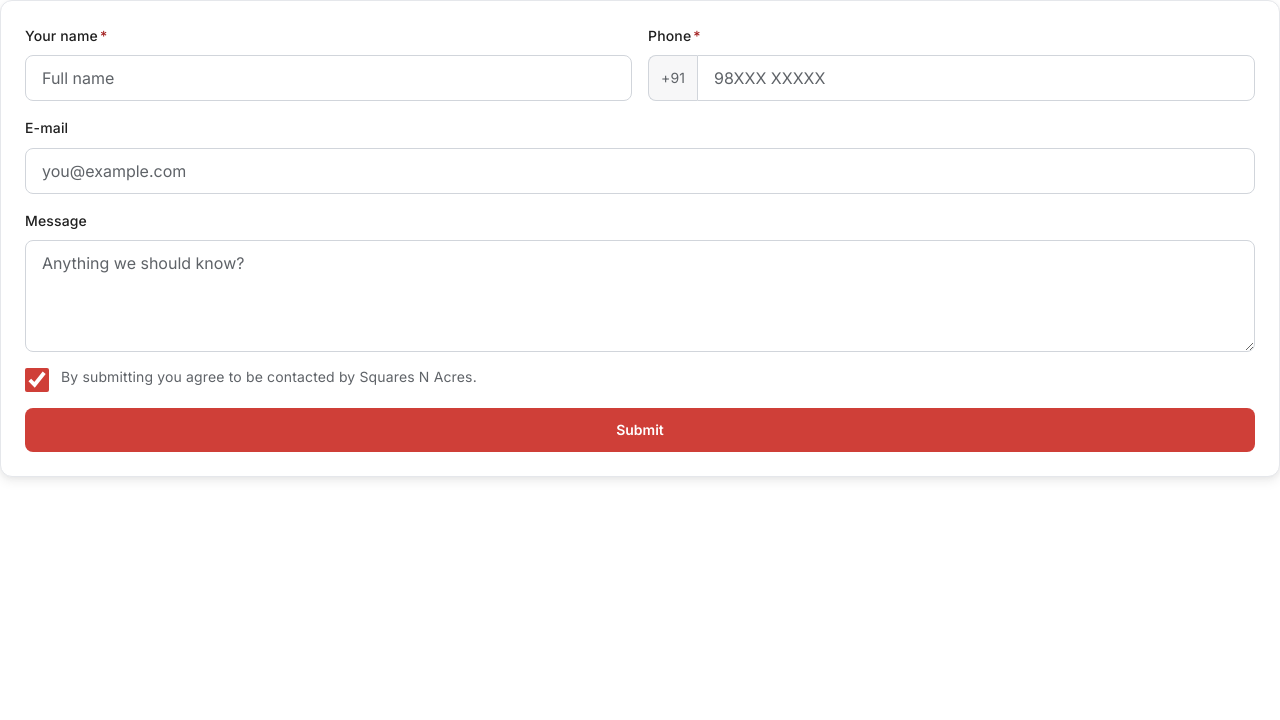
it: the boxes › refuses an e-mail address it would send, and accepts a valid one
Type "Asha Rao" into the field labelled "Your name*" at (328, 78), box [25,55,632,101]
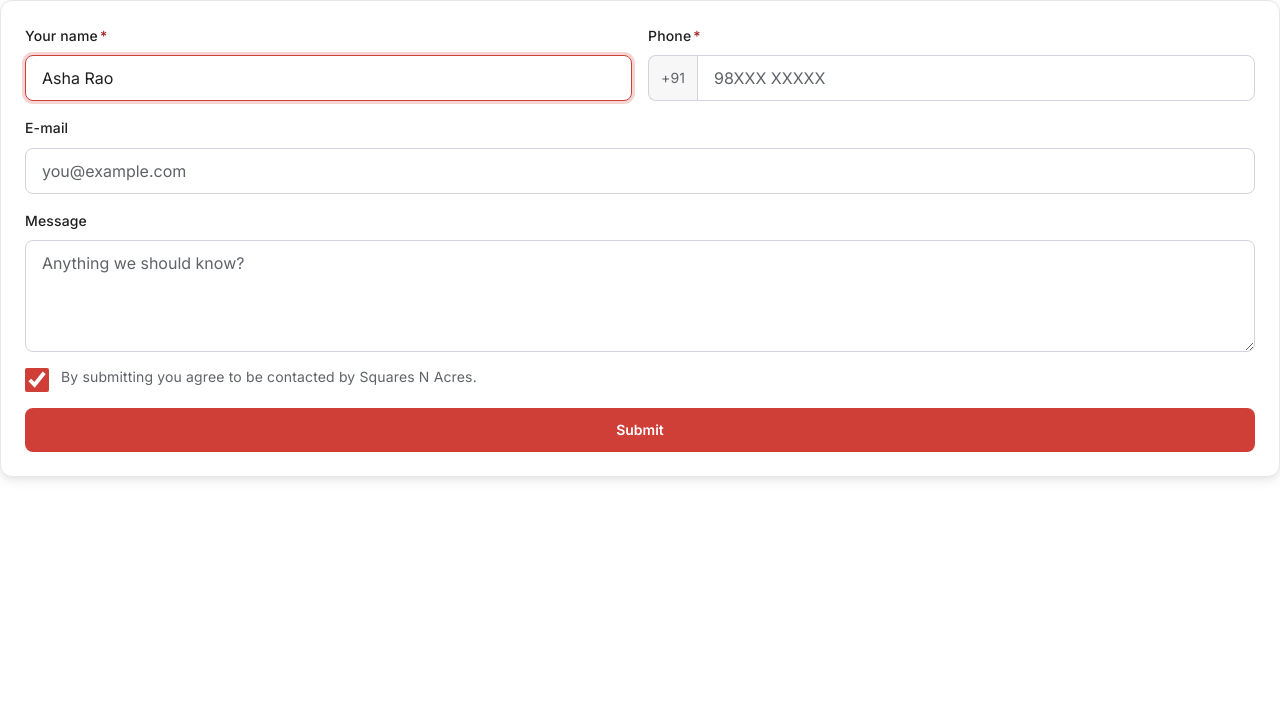
Type "9876543210" into the field labelled "Phone*" at (976, 78), box [697,55,1255,101]
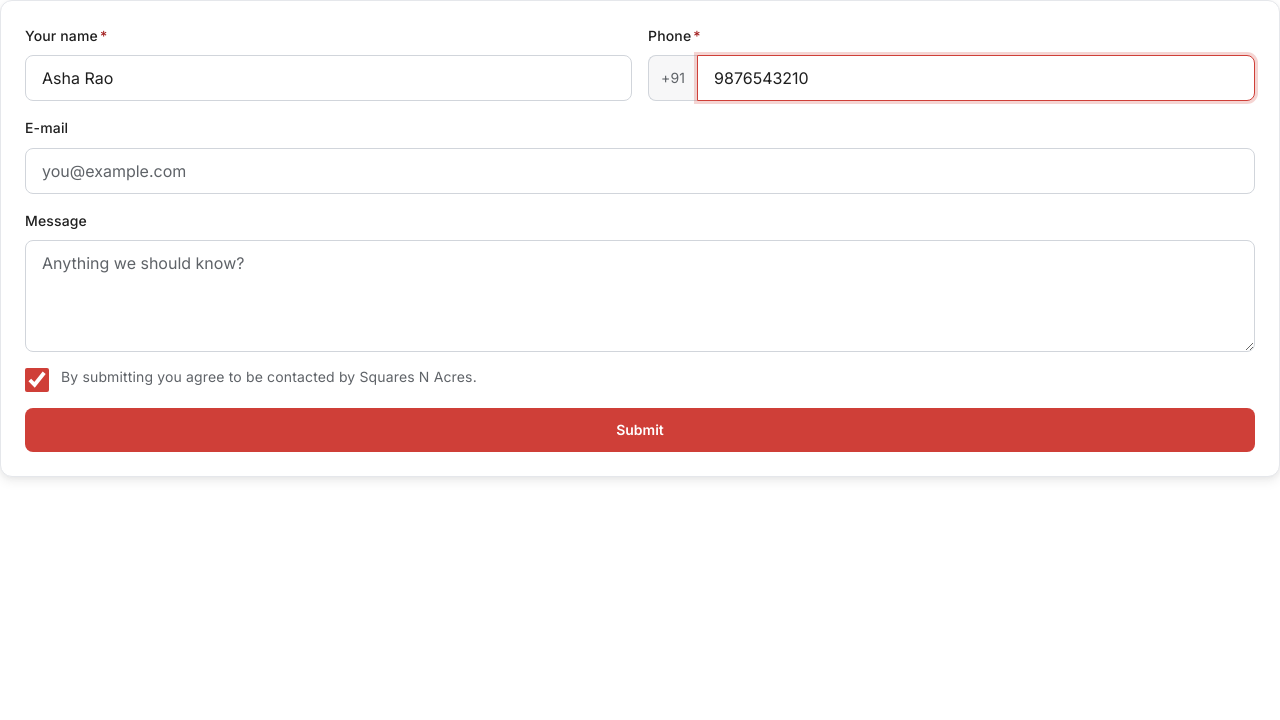
Type "asha@" into the field labelled "E-mail" at (640, 171), box [25,148,1255,194]
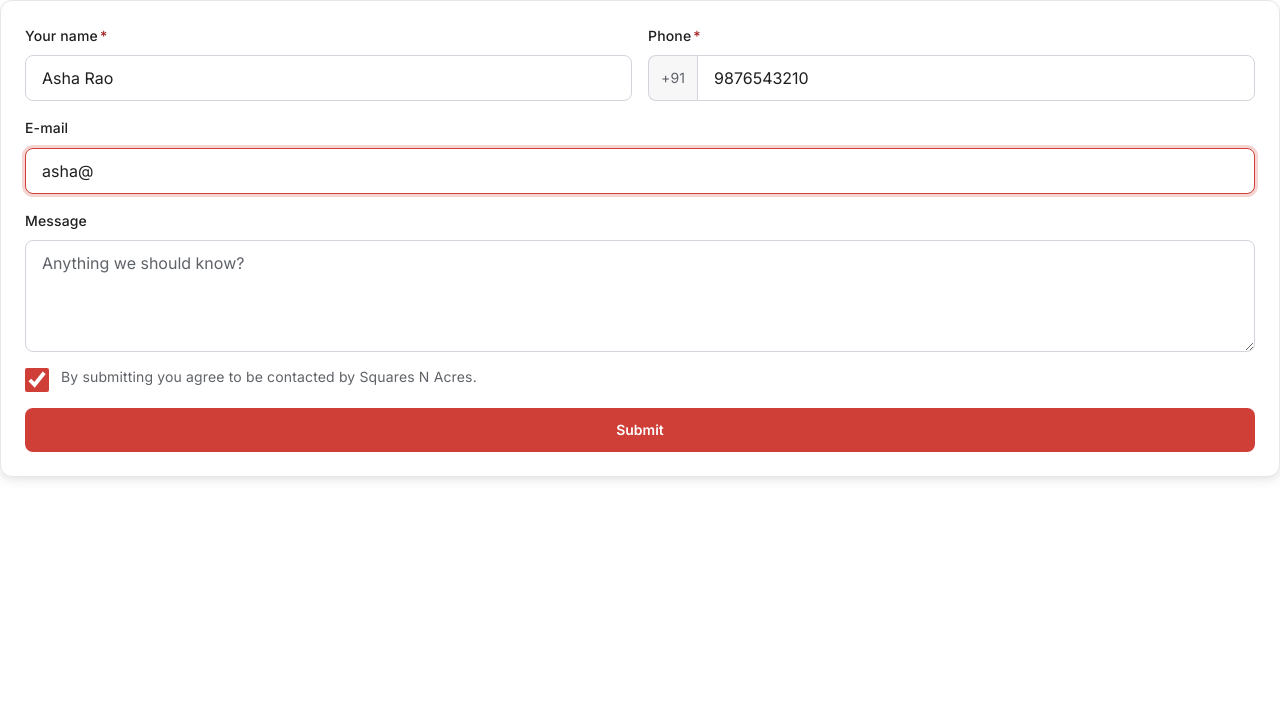
Click the button "Submit" at (640, 430), box [25,408,1255,452]
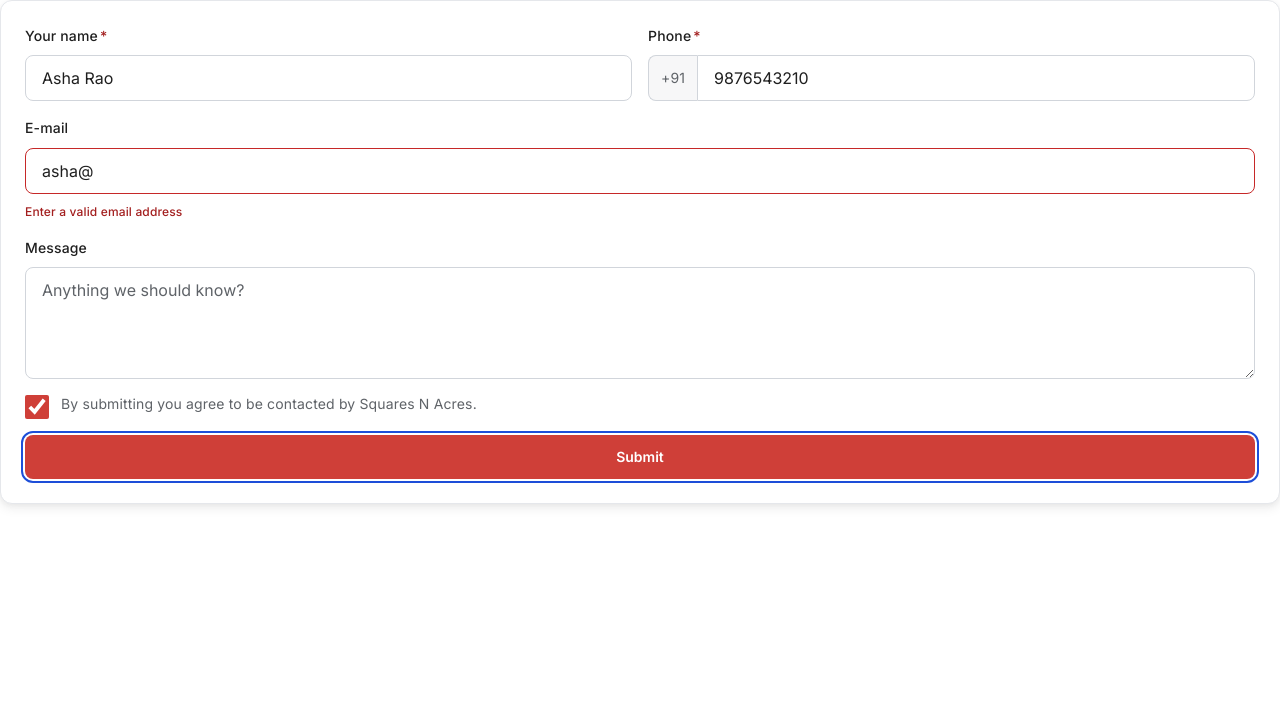
Check: the text "Enter a valid email address" is shown, box [25,204,182,219]
